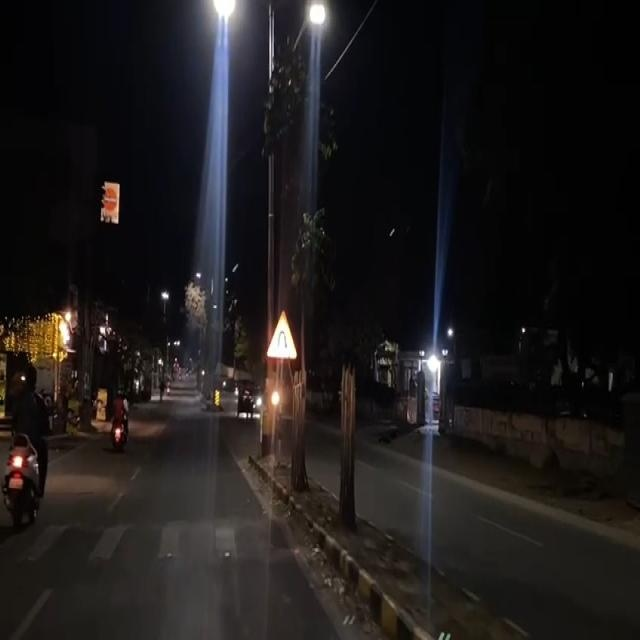bien_nguy_hiem: (264, 307, 298, 362)
